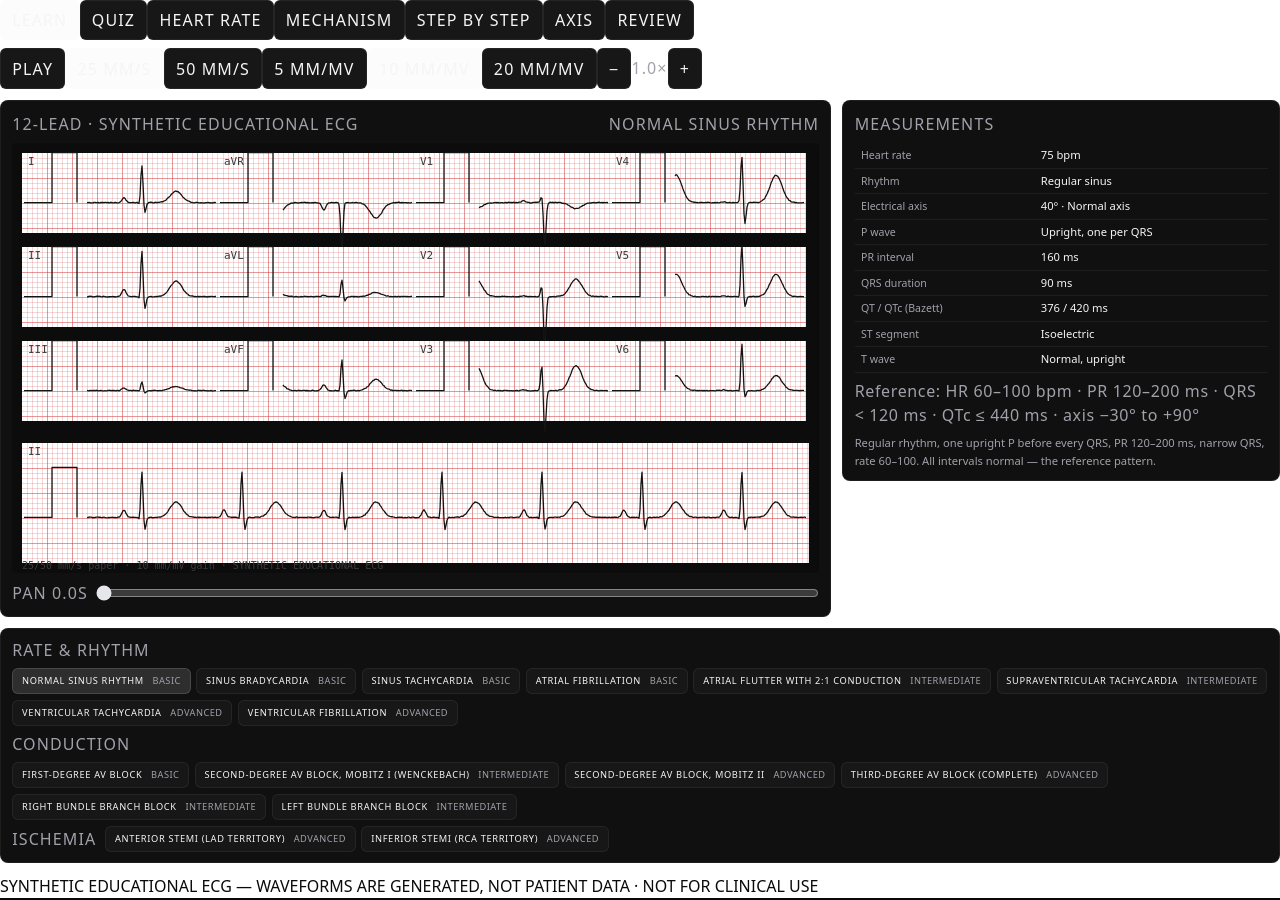
ECG Lab interface › runs a quiz round with evaluation and explanation
The width and height of the screenshot is (1280, 900).
Click the button "QUIZ": {"x": 113, "y": 20} [80,0,147,40]
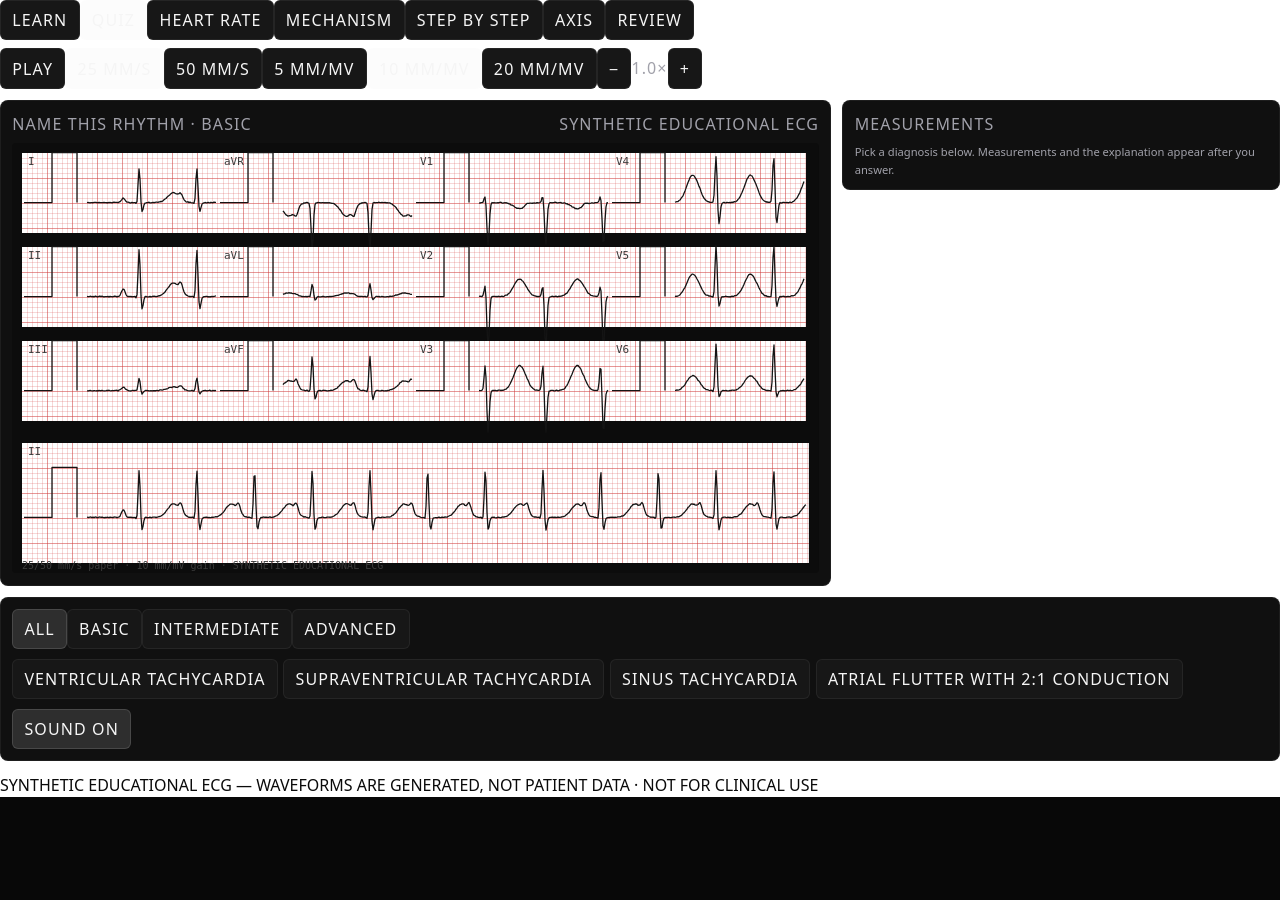
Click the button "Ventricular tachycardia": {"x": 145, "y": 679} [12,659,278,699]
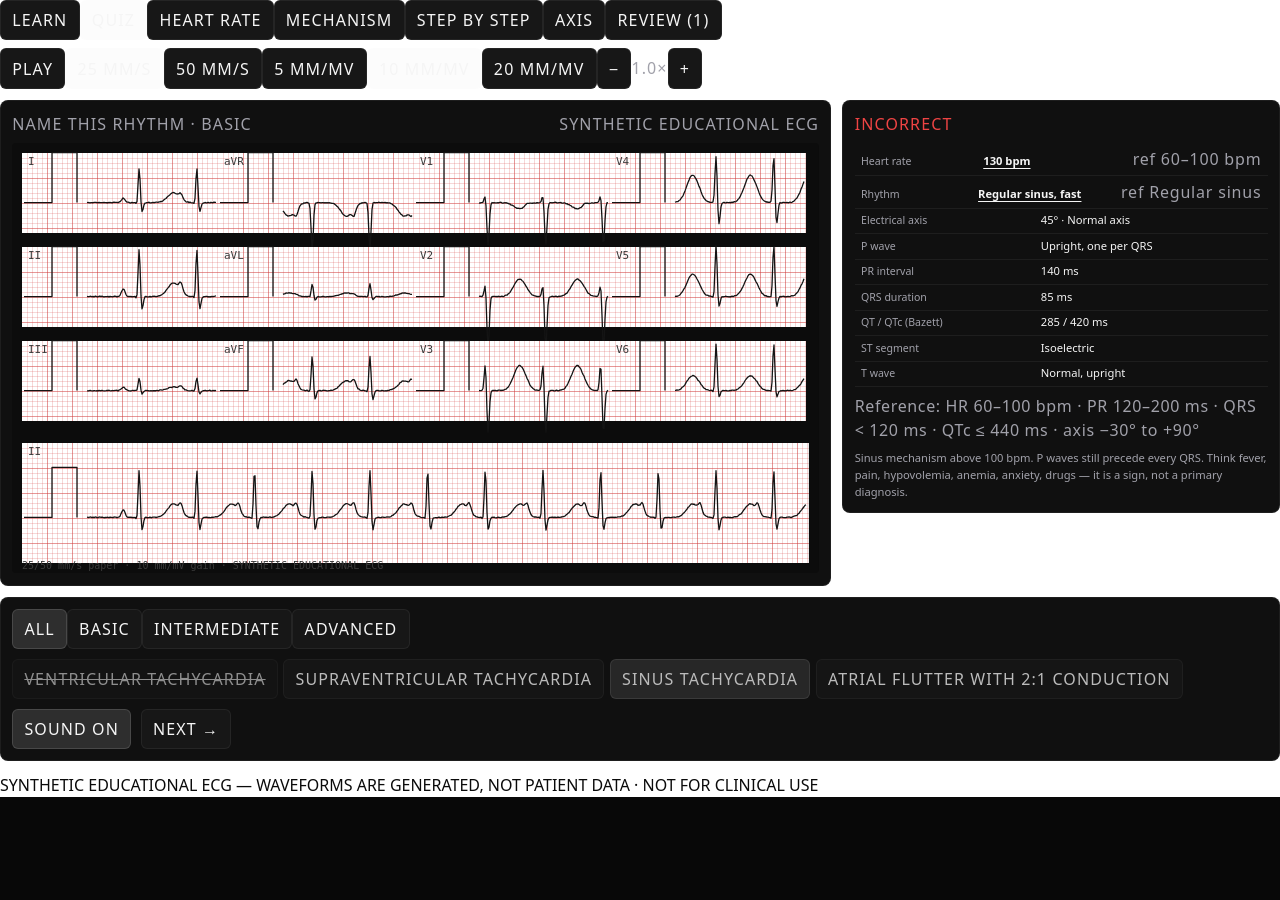
expect the text "INCORRECT" is shown: met, box [855,113,952,135]
expect the button "NEXT →" is shown: met, box [141,709,231,749]
